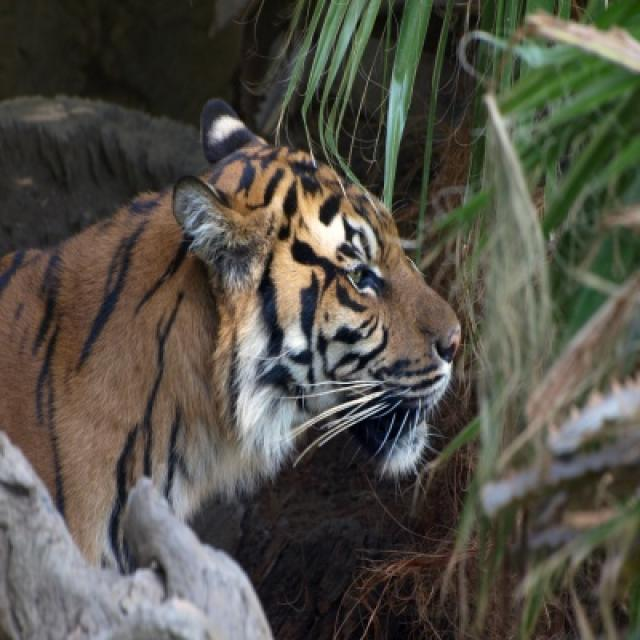Tiger: (0, 99, 459, 565)
